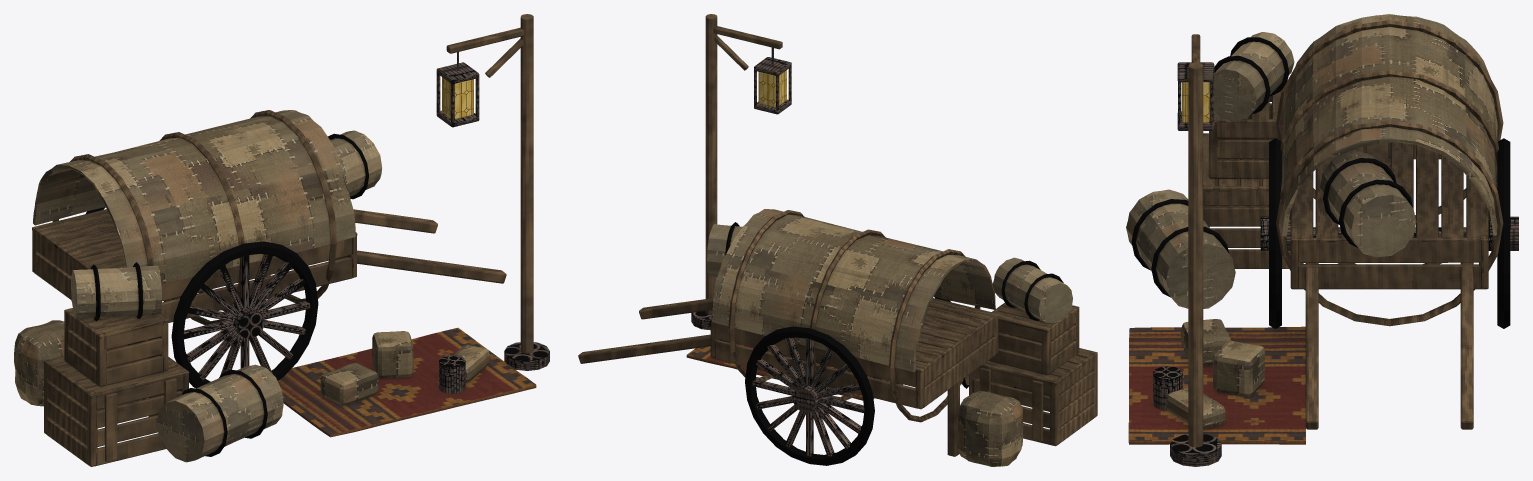
The model's file is enc_trader_stall.glb.
3 views of the same model, side by side, from view 1: azimuth 30°, elevation 25°; view 2: azimuth 150°, elevation 25°; view 3: azimuth 270°, elevation 25° (orthographic). The views are drawn at different scales.
Parts seen in each view (by area): view 1: enc_trader_stall; view 2: enc_trader_stall; view 3: enc_trader_stall.
Part boxes in pixels (x1,y1,x2,y2): enc_trader_stall: [14, 14, 549, 466]; enc_trader_stall: [578, 14, 1097, 466]; enc_trader_stall: [1126, 14, 1518, 466].
Bounding box in the file's own units: 2.82 × 2.02 × 1.82.
Materials: 6 (6 with a texture image).
